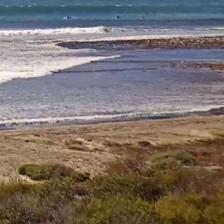surfer: (66, 16, 73, 20), (140, 16, 145, 20), (115, 15, 120, 18)
